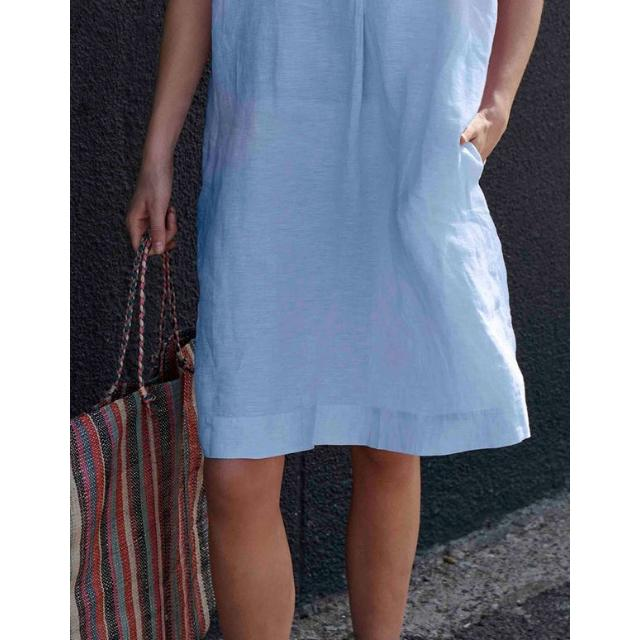linen: (152, 0, 532, 456)
